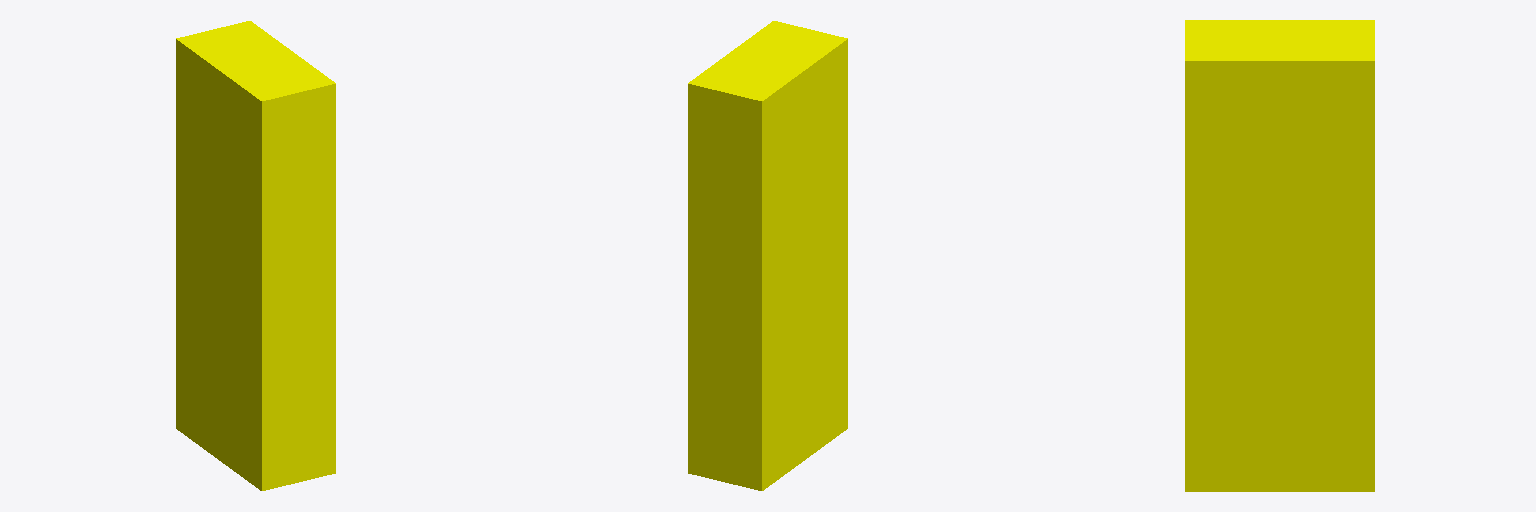
robot.urdf — cube:
<?xml version="1.0" ?>
<robot name="cube">
  <link name="cube_base_link">
    <contact>
      <restitution value="0.1"/>
      <lateral_friction value="1.0"/>
      <contact_cfm value="0.0"/>
      <contact_erp value="1.0"/>
    </contact>
    <inertial>
      <origin rpy="0 0 0" xyz="0 0 0"/>
       <mass value="0.5"/>
       <inertia ixx="0.01208333333" ixy="0" ixz="0" iyy="0.01083333333" iyz="0" izz="0.002083333333"/>
    </inertial>
    <visual>
      <origin rpy="0 0 0" xyz="0 0 0"/>
      <geometry>
		<box size="0.10 0.20 0.50"/>
      </geometry>
       <material name="yellow">
        <color rgba="1 1 0 1"/>
      </material>
    </visual>
    <collision>
      <origin rpy="0 0 0" xyz="0 0 0"/>
      <geometry>
	 	<box size="0.10 0.20 0.50"/>
      </geometry>
    </collision>
  </link>
</robot>

--- Render facts (derived) ---
3 views of the same robot in one strip: view 1: azimuth 30°, elevation 25°; view 2: azimuth 150°, elevation 25°; view 3: azimuth 270°, elevation 25° (orthographic).
Model cube with 1 links and 0 joints (none), rooted at cube_base_link, posed every joint at zero.
Links seen in each view (by area): view 1: cube_base_link; view 2: cube_base_link; view 3: cube_base_link.
Boxes of the visible links, x1,y1,x2,y2 form: cube_base_link: (176,21,335,490); cube_base_link: (688,21,847,490); cube_base_link: (1185,20,1374,491).
Bounding box of the posed robot: 0.1 × 0.2 × 0.5 m (x, y, z).
Geometry: primitives only (box / cylinder / sphere), no mesh files.